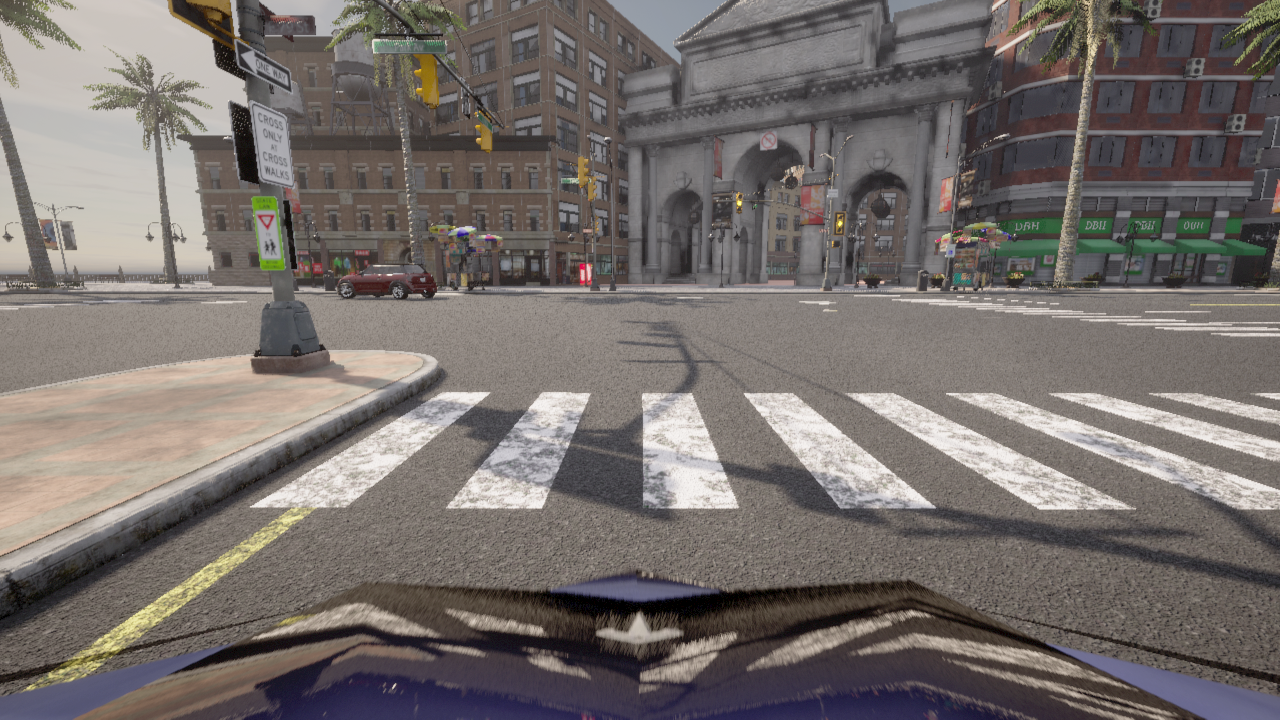cyclist: (0, 569, 1279, 719), (337, 263, 437, 299)
